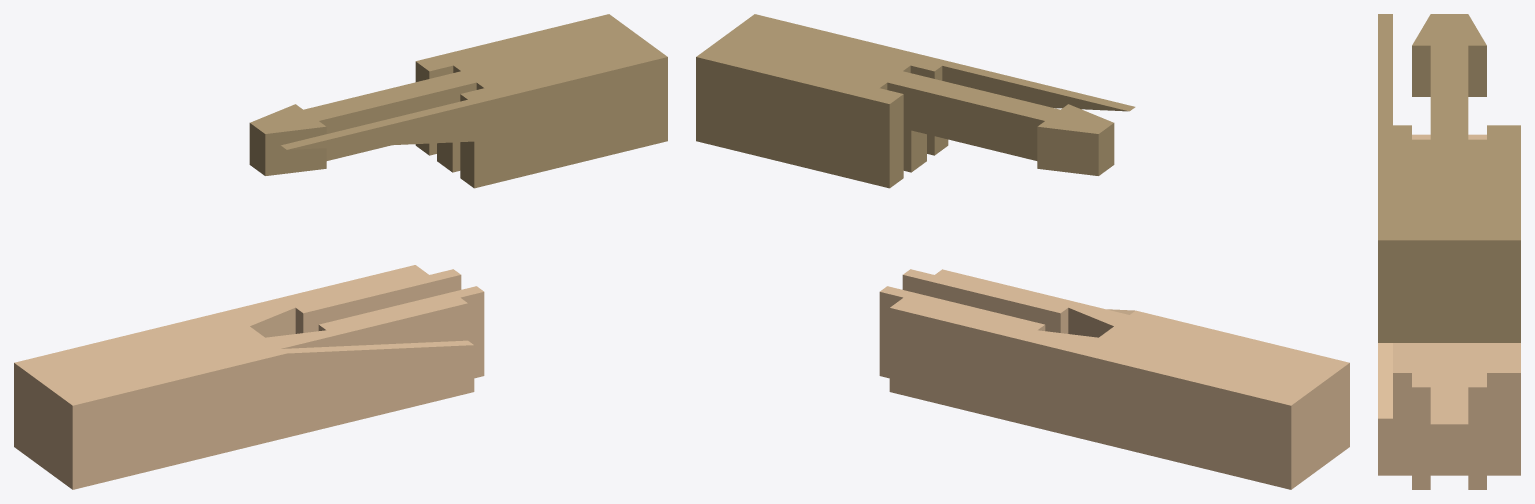
The picture shows the model from 3 angles, left to right: view 1: azimuth 30°, elevation 25°; view 2: azimuth 150°, elevation 25°; view 3: azimuth 270°, elevation 25°; orthographic projection. The views are drawn at different scales.
Bounding box in the file's own units: 14.04 × 6.49 × 2.4.
